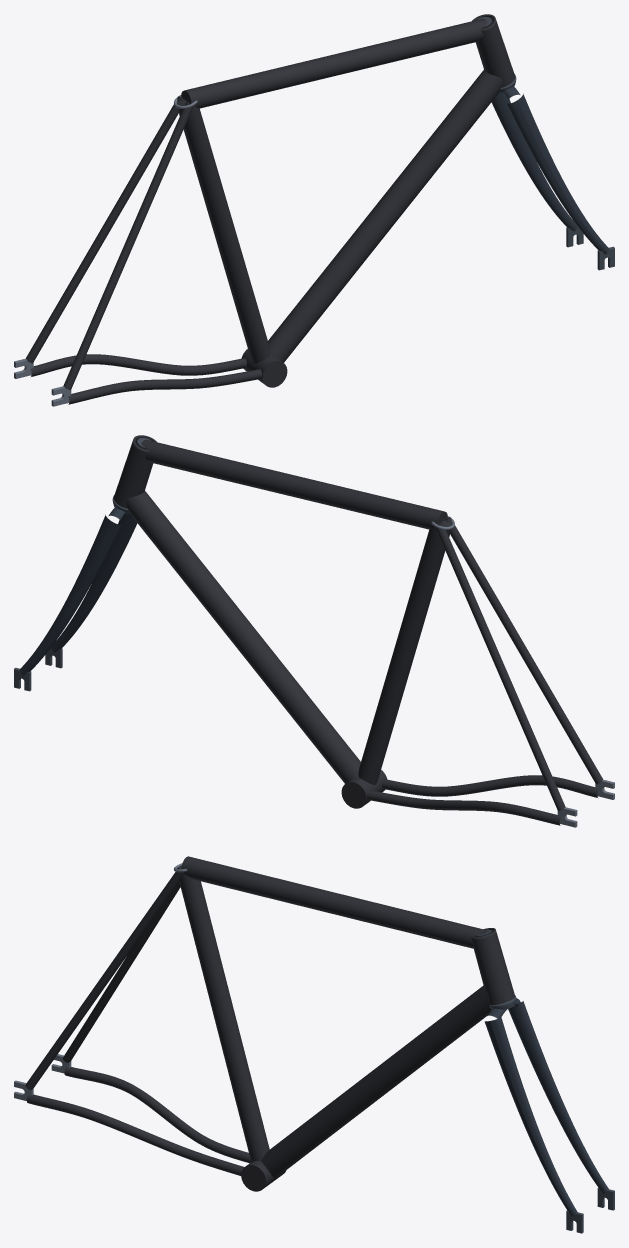
File: state-black-label-v3-52.glb
The picture shows the model from 3 angles, top to bottom: view 1: azimuth 30°, elevation 25°; view 2: azimuth 150°, elevation 25°; view 3: azimuth 330°, elevation 25°; orthographic projection.
Parts seen in each view (by area): view 1: paint_down, paint_top, paint_seat, paint_seatstay_1, paint_seatstay_-1, fork_blade_1, paint_chainstay_-1, paint_chainstay_1, fork_blade_-1, paint_head, paint_bottom_bracket; view 2: paint_down, paint_top, paint_seat, paint_seatstay_-1, paint_seatstay_1, fork_blade_-1, paint_chainstay_1, paint_chainstay_-1, fork_blade_1, paint_head, paint_bottom_bracket; view 3: paint_down, paint_top, paint_seat, fork_blade_1, fork_blade_-1, paint_seatstay_1, paint_chainstay_1, paint_chainstay_-1, paint_head, paint_seatstay_-1, paint_bottom_bracket.
Boxes of the visible parts, <box> form: paint_down: <box>268,70,502,362</box>; paint_top: <box>181,18,487,108</box>; paint_seat: <box>177,99,270,363</box>; paint_seatstay_1: <box>63,102,193,390</box>; paint_seatstay_-1: <box>26,96,183,363</box>; fork_blade_1: <box>507,93,609,254</box>; paint_chainstay_-1: <box>30,354,246,377</box>; paint_chainstay_1: <box>68,369,261,404</box>; fork_blade_-1: <box>491,92,577,231</box>; paint_head: <box>472,14,515,87</box>; paint_bottom_bracket: <box>241,349,287,387</box>; paint_down: <box>126,491,360,783</box>; paint_top: <box>141,439,447,529</box>; paint_seat: <box>358,520,451,784</box>; paint_seatstay_-1: <box>435,523,565,811</box>; paint_seatstay_1: <box>445,517,602,784</box>; fork_blade_-1: <box>19,514,121,675</box>; paint_chainstay_1: <box>382,775,598,798</box>; paint_chainstay_-1: <box>367,790,560,825</box>; fork_blade_1: <box>51,513,137,652</box>; paint_head: <box>113,435,156,508</box>; paint_bottom_bracket: <box>341,770,387,808</box>; paint_down: <box>261,985,491,1178</box>; paint_top: <box>181,856,487,948</box>; paint_seat: <box>177,865,269,1161</box>; fork_blade_1: <box>484,1017,577,1216</box>; fork_blade_-1: <box>508,1001,609,1193</box>; paint_seatstay_1: <box>25,866,183,1089</box>; paint_chainstay_1: <box>26,1094,244,1175</box>; paint_chainstay_-1: <box>64,1067,250,1163</box>; paint_head: <box>471,928,515,1004</box>; paint_seatstay_-1: <box>63,882,180,1062</box>; paint_bottom_bracket: <box>241,1161,286,1191</box>.
Bounding box in the file's own units: 1.04 × 0.5403 × 0.1394.
